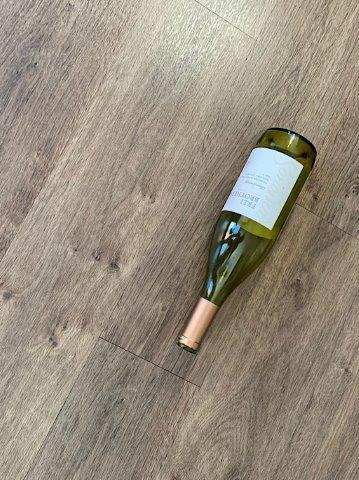botolkaca: (174, 128, 318, 354)
